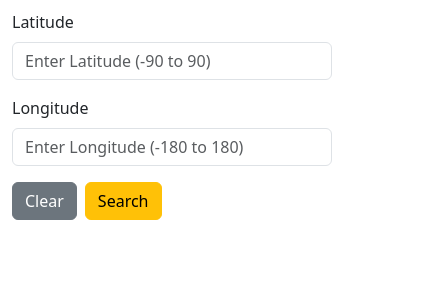
SearchByGeolocation Component › displays warning for invalid longitude
The width and height of the screenshot is (423, 295).
In the field labelled "Longitude": (172, 147) [12,128,332,166], type "-200"
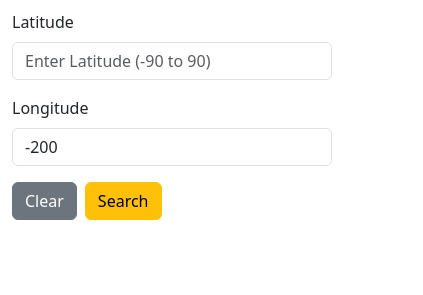
Click the button "Search": (123, 201) [85,182,162,220]
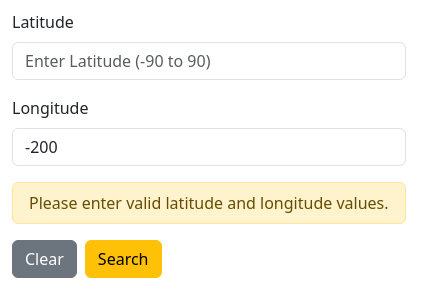
Result: the text "Please enter valid latitude and longitude values." is shown at [12,182,406,224]
